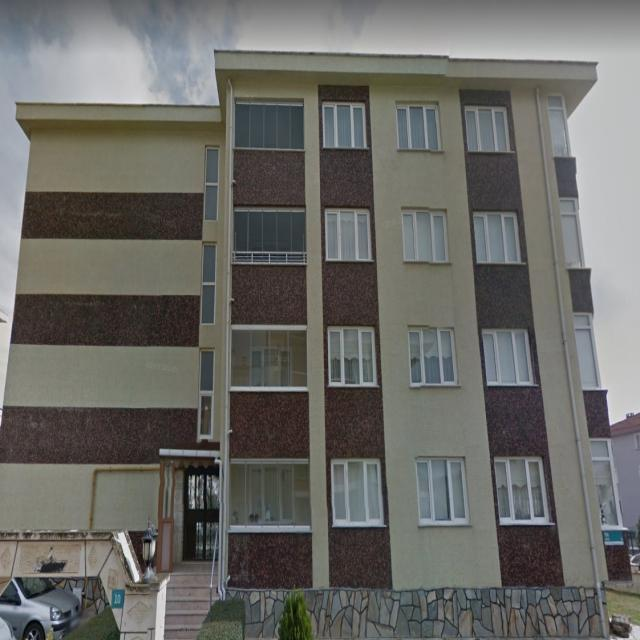Building: (0, 50, 634, 588)
